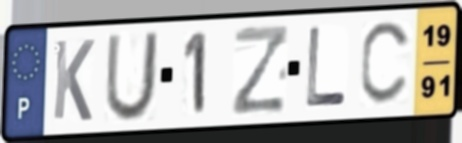1: (180, 29, 206, 118)
C: (357, 18, 415, 109)
K: (50, 37, 97, 124)
L: (304, 25, 350, 110)
U: (102, 29, 162, 124)
Z: (230, 22, 292, 119)
